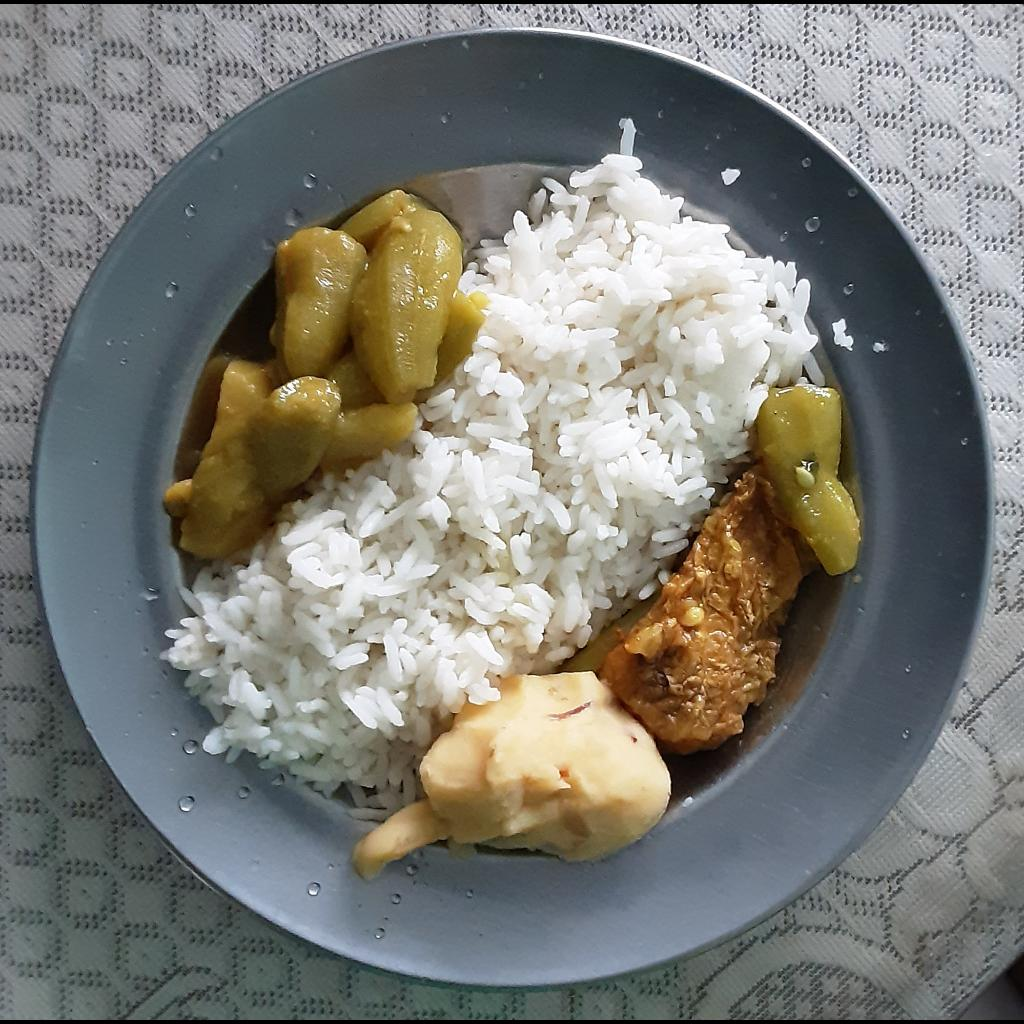fish: (596, 467, 807, 749)
potato-mashed: (348, 669, 672, 882)
potol: (164, 184, 486, 559), (752, 386, 863, 578)
rice: (165, 113, 820, 822)
